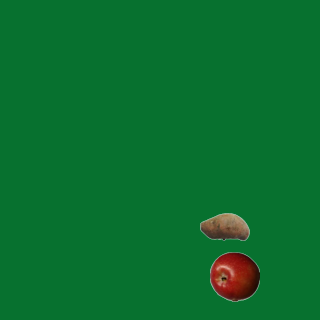Apple Braeburn: (209, 251, 259, 301)
Potato Sweet: (199, 201, 249, 251)
